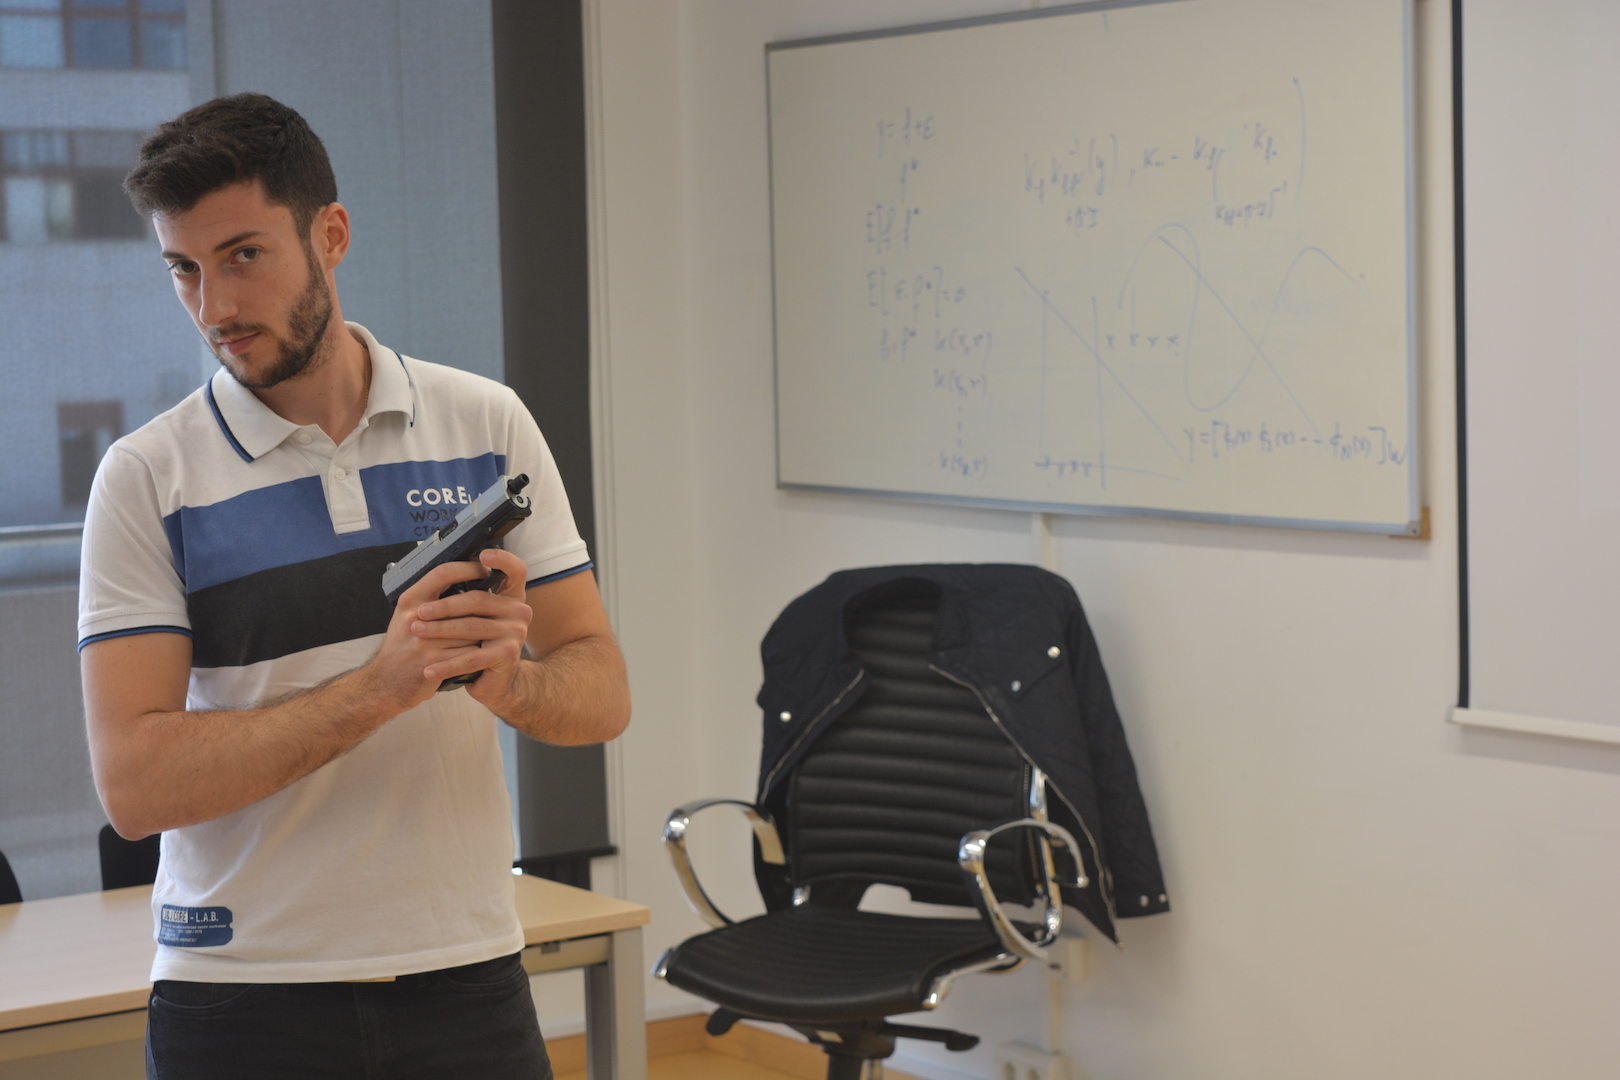pistol: (380, 472, 533, 694)
